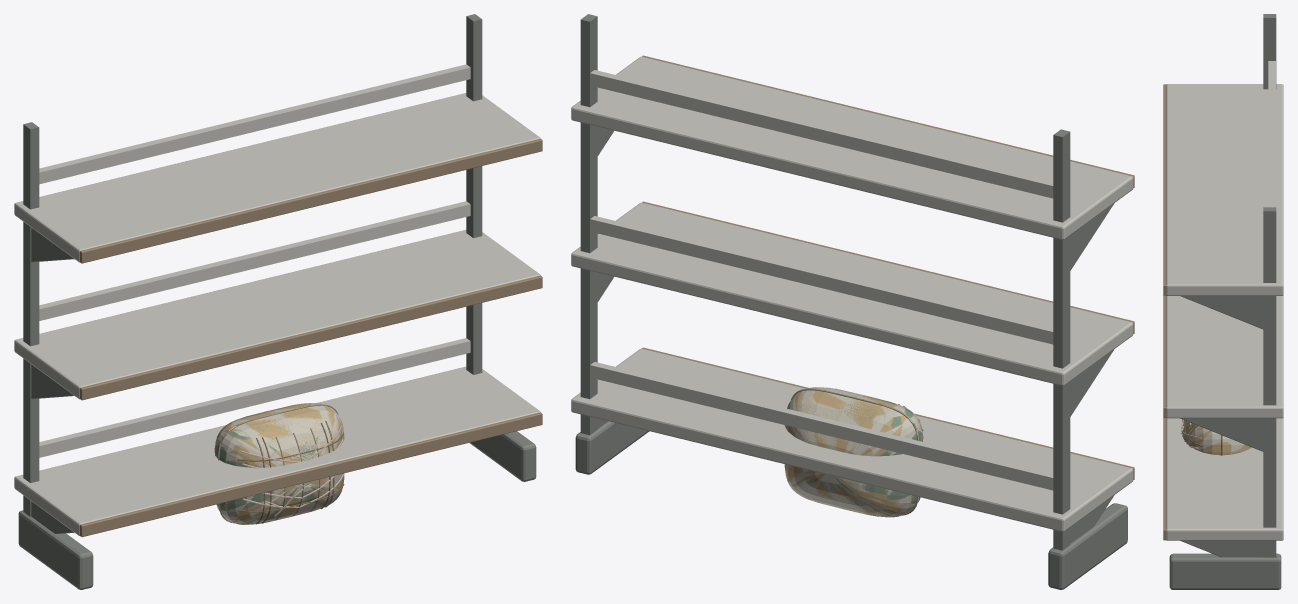
The model's file is cushions.glb.
3 renders of one model, left to right at view 1: azimuth 30°, elevation 25°; view 2: azimuth 150°, elevation 25°; view 3: azimuth 270°, elevation 25°, orthographic. The views are drawn at different scales.
Parts seen in each view (by area): view 1: CushionRack, CushionIvory, CushionLinen, CushionSage, CushionRose; view 2: CushionRack, CushionIvory, CushionLinen, CushionSage; view 3: CushionRack, CushionLinen, CushionIvory.
Part boxes in pixels (left/top/right/bottom): CushionRack: left=14, top=14, right=542, bottom=589; CushionIvory: left=215, top=403, right=343, bottom=524; CushionLinen: left=215, top=403, right=344, bottom=524; CushionSage: left=214, top=411, right=325, bottom=524; CushionRose: left=240, top=426, right=343, bottom=507; CushionRack: left=571, top=14, right=1134, bottom=589; CushionIvory: left=785, top=387, right=922, bottom=516; CushionLinen: left=784, top=387, right=923, bottom=517; CushionSage: left=805, top=396, right=923, bottom=517; CushionRack: left=1163, top=14, right=1283, bottom=589; CushionLinen: left=1184, top=420, right=1251, bottom=455; CushionIvory: left=1181, top=420, right=1244, bottom=455.
Bounding box in the file's own units: 1.95 × 1.71 × 0.4915.
